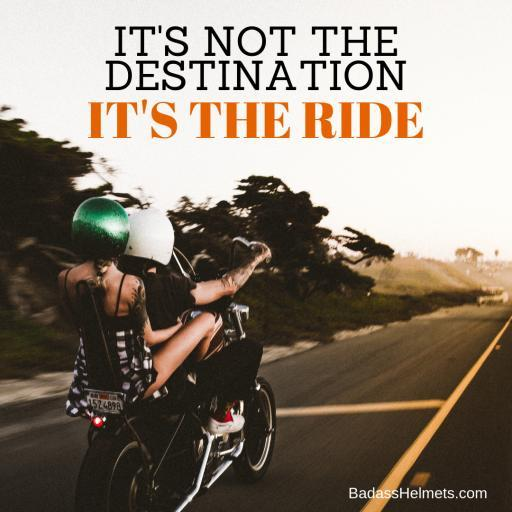helmet: (34, 178, 264, 480)
